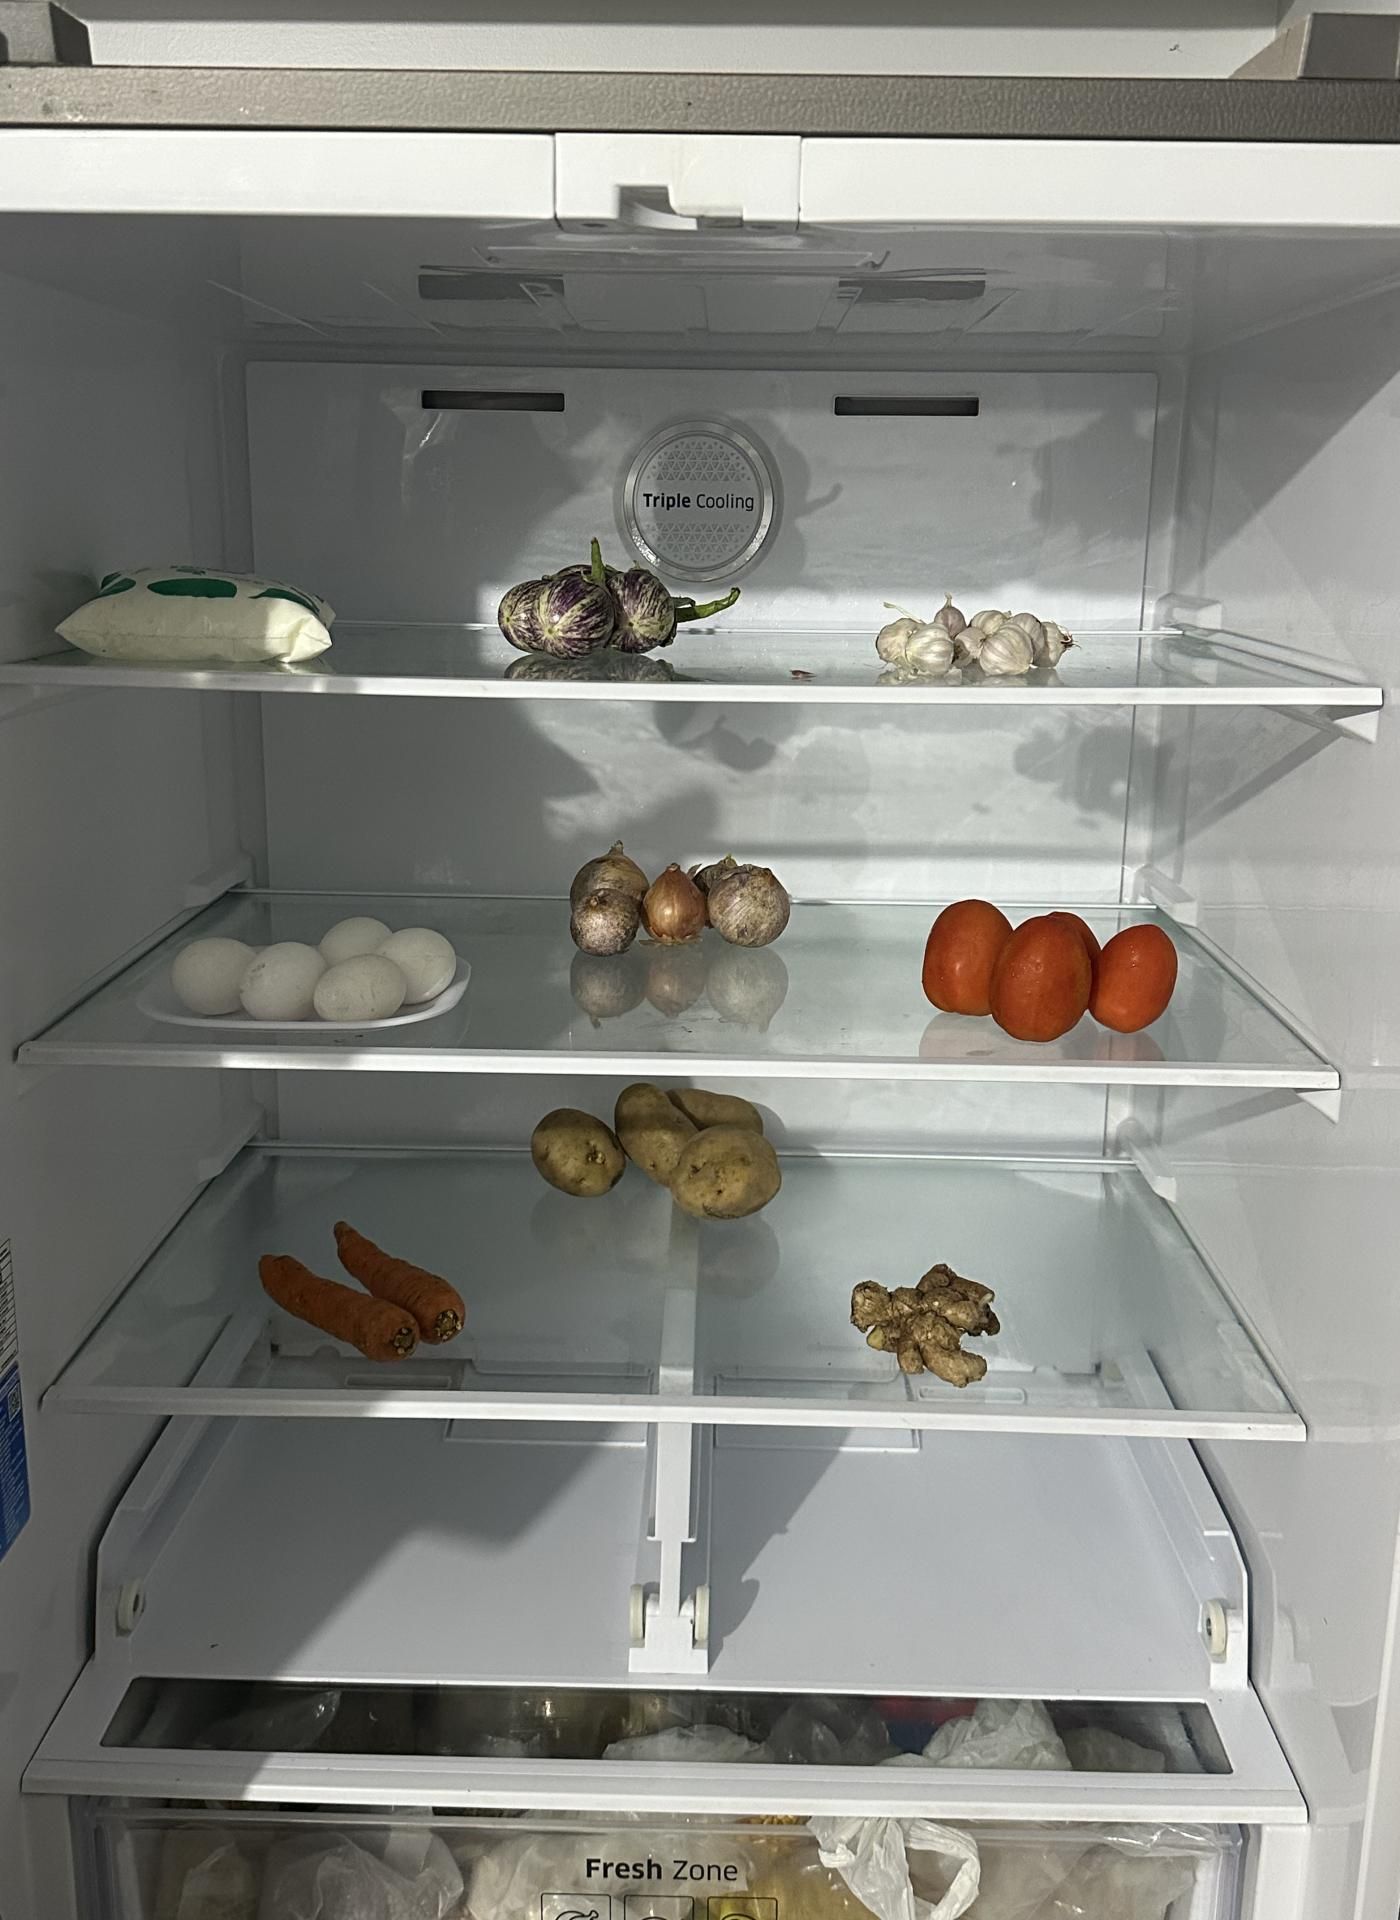brinjal: (501, 566, 695, 665)
carrots: (258, 1222, 467, 1361)
egg: (182, 920, 467, 1024)
garlic: (874, 596, 1075, 680)
ginger: (847, 1264, 999, 1391)
milk: (57, 568, 344, 668)
onion: (558, 853, 790, 960)
potato: (529, 1076, 783, 1209)
tomato: (918, 903, 1181, 1048)
